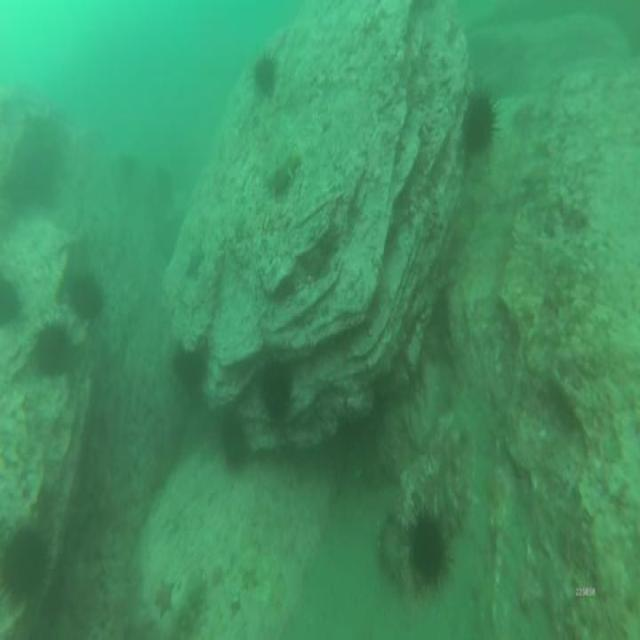echinus: (5, 528, 47, 596), (414, 516, 444, 582), (260, 362, 289, 419), (465, 95, 492, 150), (40, 330, 74, 373), (220, 416, 246, 469), (70, 276, 102, 314), (172, 354, 206, 389), (254, 60, 273, 90)
holothurian: (266, 145, 297, 199)
starfish: (154, 585, 172, 616)
